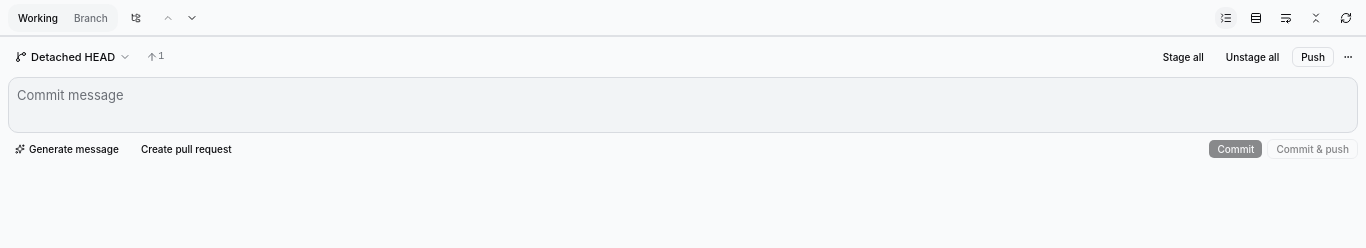
Test case: explains failures inline, including hook output
Type "fix: x" into the text box labelled "Commit message" at x=683, y=105, box left=8, top=77, right=1358, bottom=133
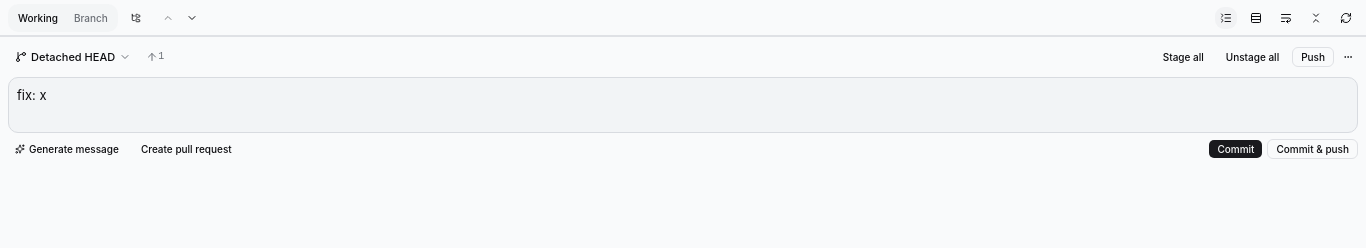
Click the button "Commit" at x=1236, y=149, box left=1208, top=139, right=1264, bottom=159
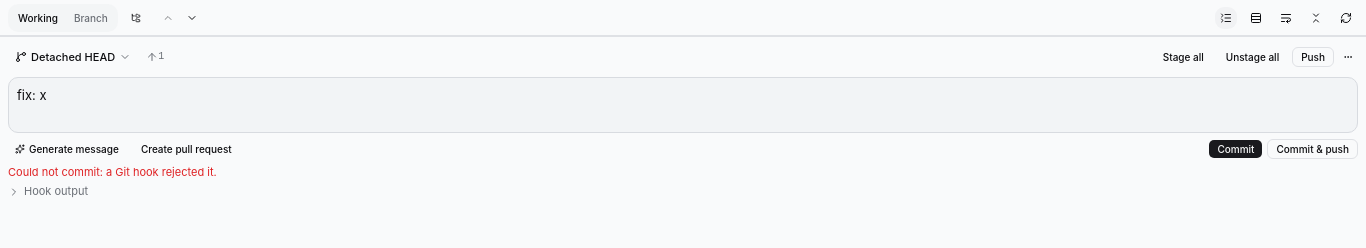
Result: the message shows "Could not commit: a Git hook rejected it." at left=8, top=165, right=217, bottom=179
Click the button "Hook output" at x=48, y=192, box left=8, top=184, right=88, bottom=199
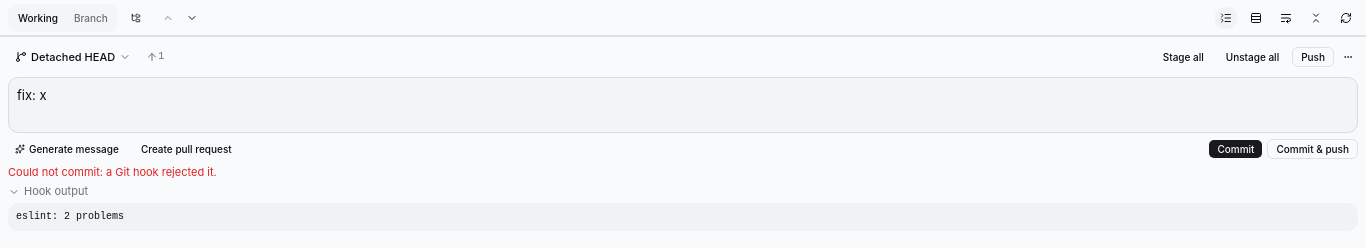
Result: the text "eslint: 2 problems" is shown at left=8, top=203, right=1358, bottom=231
Click the button "Push" at x=1313, y=57, box left=1292, top=47, right=1334, bottom=67
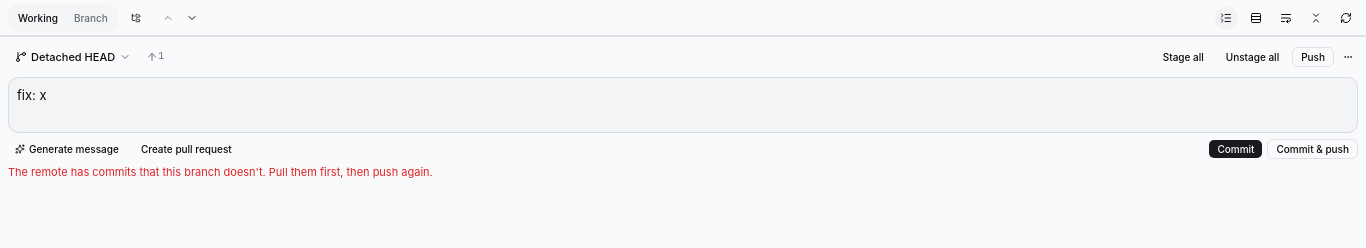
Result: the message shows "Pull them first, then push again." at left=8, top=165, right=433, bottom=179
Click the button "Commit" at x=1236, y=149, box left=1208, top=139, right=1264, bottom=159
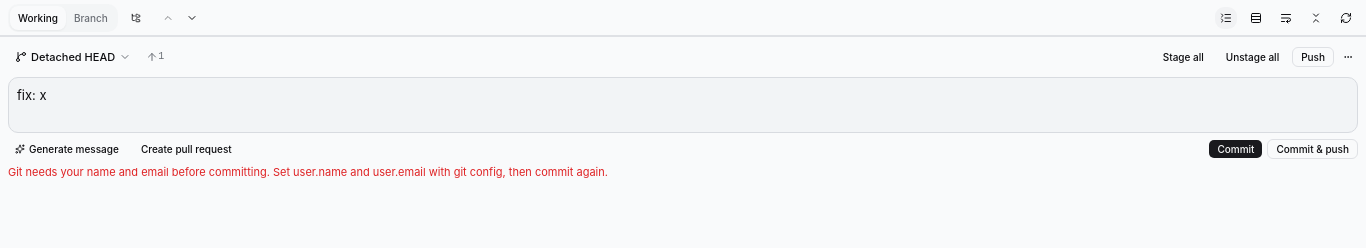
Result: the message shows "user.name and user.email" at left=8, top=165, right=608, bottom=179
